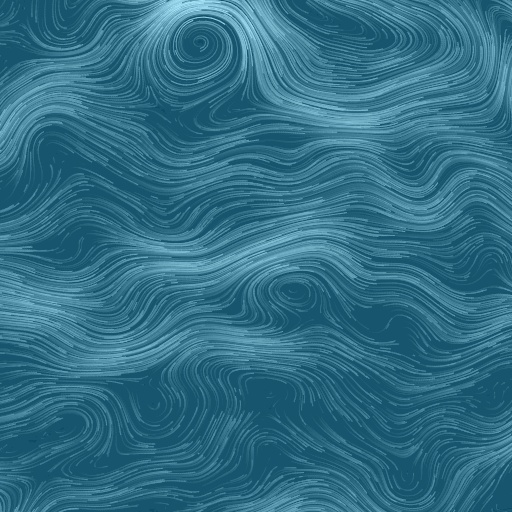eddy: (154, 4, 247, 86), (264, 268, 324, 314)
